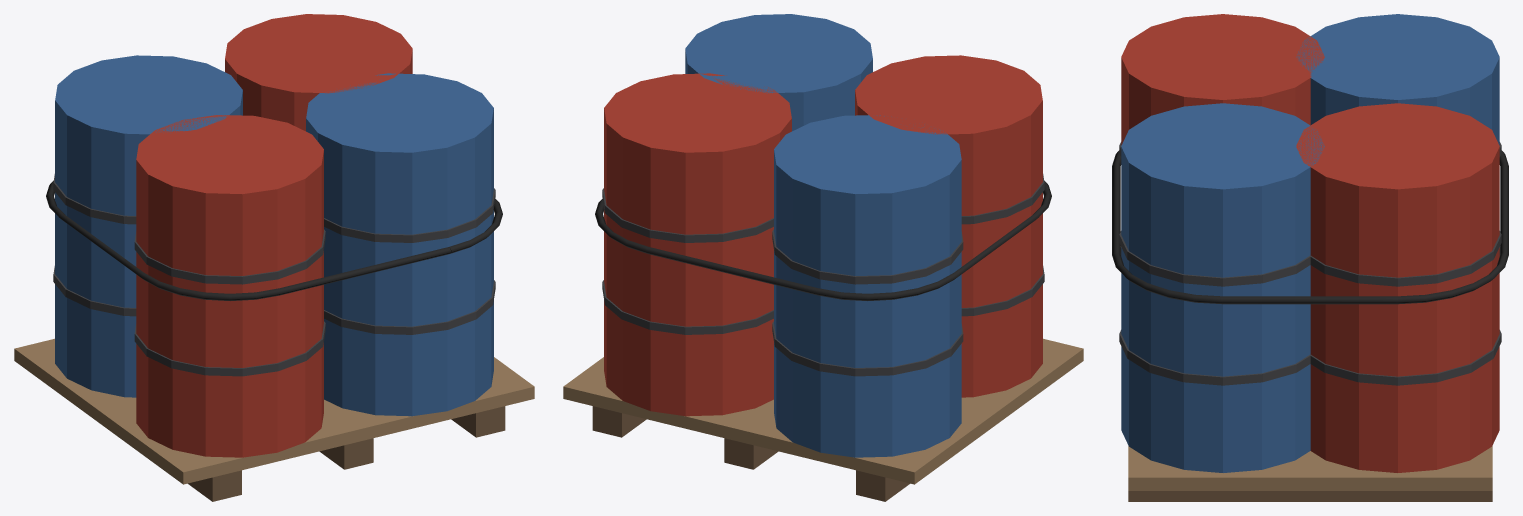
The model's file is crate-fuel.glb.
3 views of the same model, side by side, from view 1: azimuth 30°, elevation 25°; view 2: azimuth 150°, elevation 25°; view 3: azimuth 270°, elevation 25° (orthographic). The views are drawn at different scales.
Parts seen in each view (by area): view 1: crate-fuel; view 2: crate-fuel; view 3: crate-fuel.
Boxes of the visible parts, x1,y1,x2,y2 form: crate-fuel: [14, 14, 534, 501]; crate-fuel: [563, 14, 1083, 501]; crate-fuel: [1112, 14, 1508, 501].
Size of the model in its own units: 1.2 by 0.98 by 1.09.
